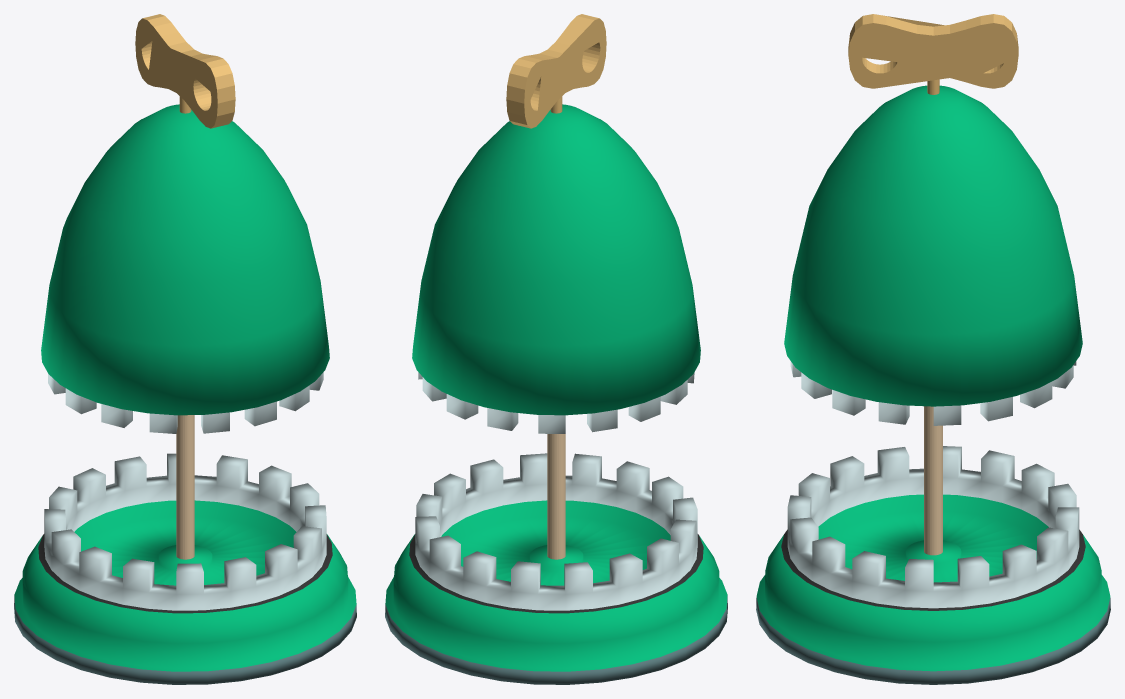
The model's file is terry.fbx.
The picture shows the model from 3 angles, left to right: view 1: azimuth 30°, elevation 25°; view 2: azimuth 150°, elevation 25°; view 3: azimuth 270°, elevation 25°; orthographic projection. The views are drawn at different scales.
Visible parts, largest first — view 1: terry_body_upper, terry_body_bottom, terry_reloading_key, terry_central_bar; view 2: terry_body_upper, terry_body_bottom, terry_reloading_key, terry_central_bar; view 3: terry_body_upper, terry_body_bottom, terry_reloading_key, terry_central_bar.
Part boxes in pixels (x1=…): terry_body_upper: x1=41, y1=104, x2=329, y2=433; terry_body_bottom: x1=14, y1=453, x2=356, y2=684; terry_reloading_key: x1=135, y1=14, x2=235, y2=128; terry_central_bar: x1=176, y1=415, x2=194, y2=559; terry_body_upper: x1=412, y1=104, x2=700, y2=433; terry_body_bottom: x1=385, y1=453, x2=727, y2=684; terry_reloading_key: x1=506, y1=14, x2=606, y2=128; terry_central_bar: x1=547, y1=434, x2=565, y2=559; terry_body_upper: x1=784, y1=85, x2=1082, y2=425; terry_body_bottom: x1=756, y1=446, x2=1110, y2=684; terry_reloading_key: x1=848, y1=14, x2=1018, y2=94; terry_central_bar: x1=924, y1=406, x2=942, y2=555.
Bounding box in the file's own units: 2.33 × 4.29 × 2.33.
